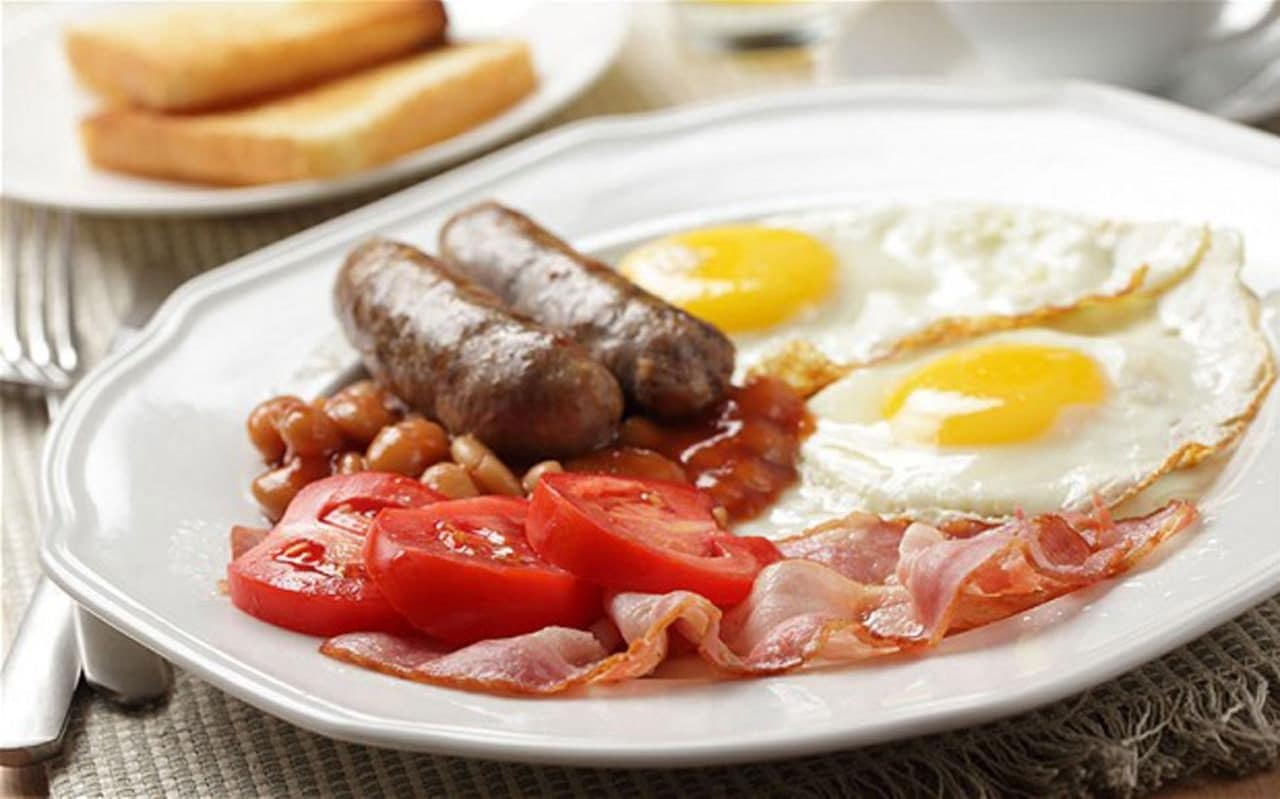fried egg: (694, 218, 1197, 506)
slice of bread: (126, 6, 439, 170)
